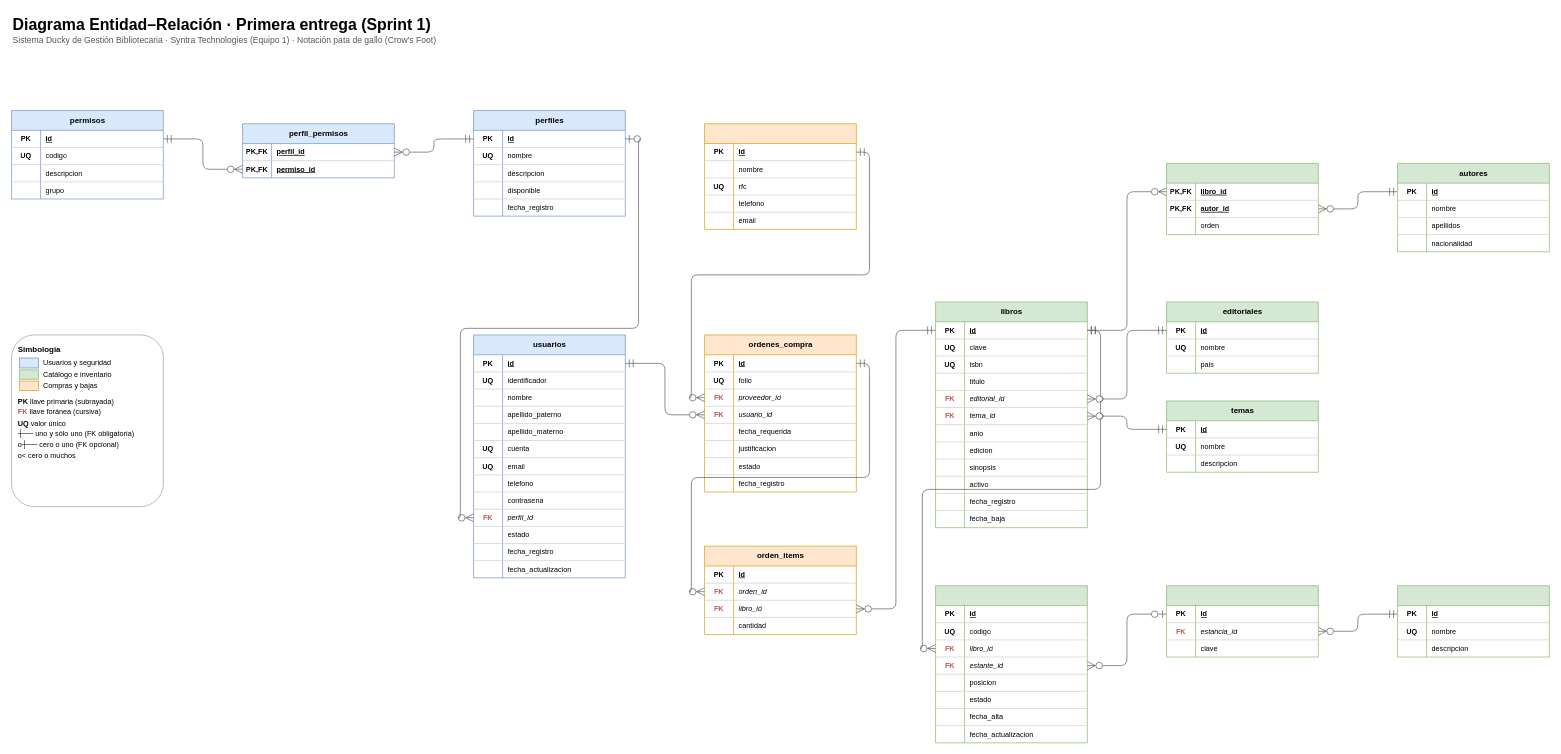
The diagram is 1561 pixels wide and 754 high, and some of its shapes have lost their labels. The shapes that lost their labels are listed below. From the top down, each one's box as (x1, y1, x2, y2) in pixels, then its label:
(704, 123, 856, 229): proveedores
(1166, 163, 1318, 235): libro_autores
(1166, 585, 1318, 657): estantes
(1397, 585, 1549, 657): estancias
(935, 585, 1087, 743): ejemplares
